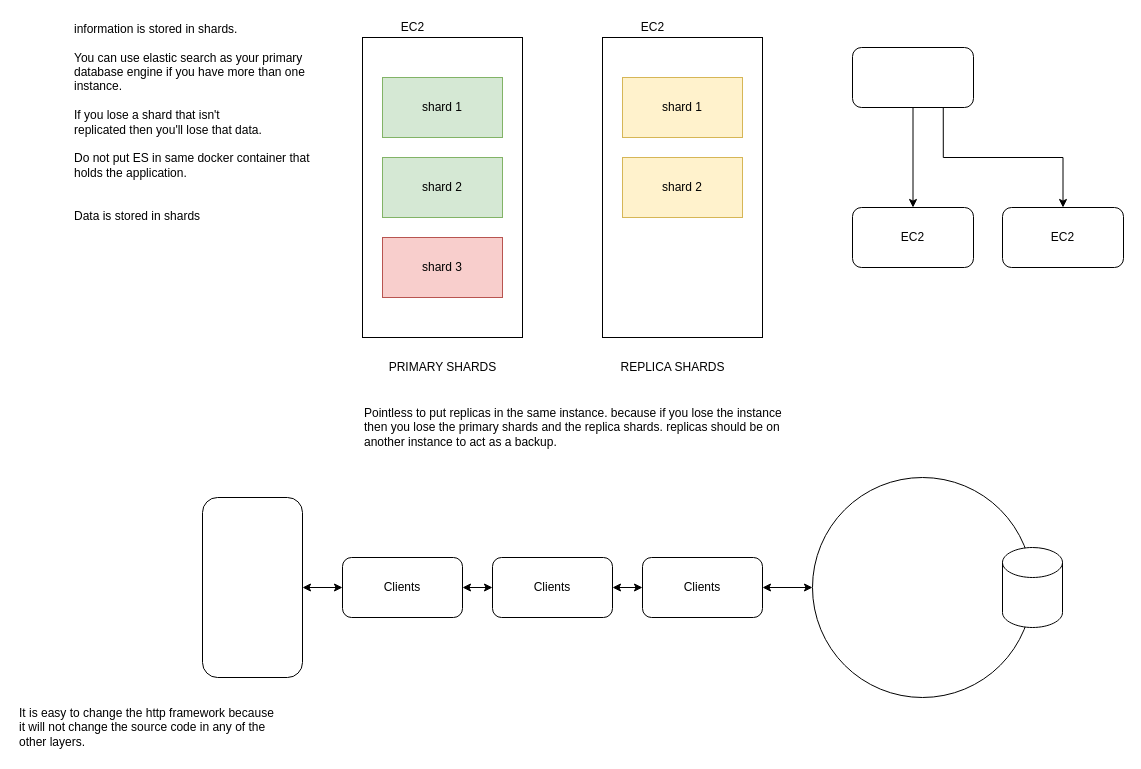
Some shapes in this 1141 by 769 pixel diagram are drawn without their labels. Here are the shapes that lost their labels. From the top down, the centre of each, then its label:
At point 913,77: "ELB (elastic load balancer)".
At point 252,587: "HTTP Framework (gorilla/mux) (gin/gonic) etc".
At point 1032,587: "ES".
